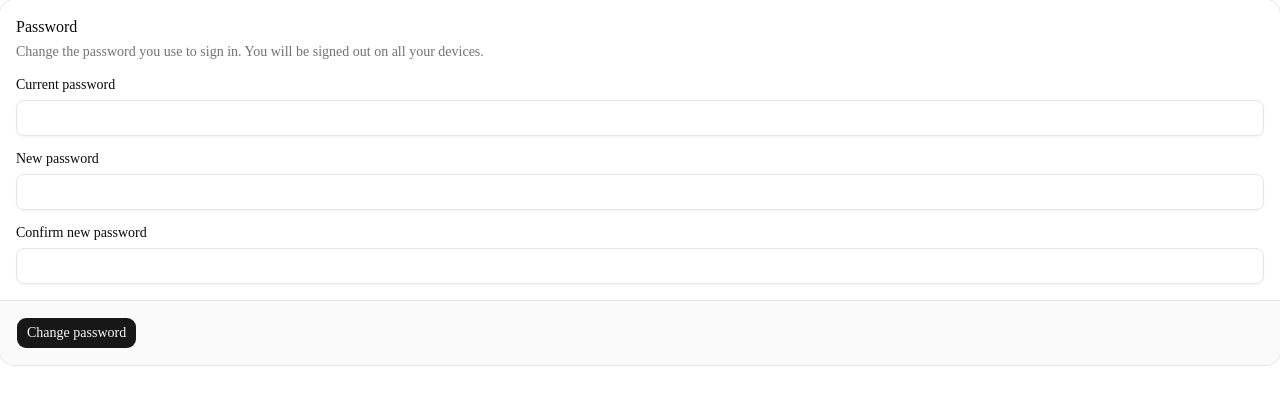
Test case: PasswordCard › an empty current password never reaches the endpoint
In the password field labelled "New password": (640, 192) [16, 174, 1264, 210], type "n3w-s3cret-password"
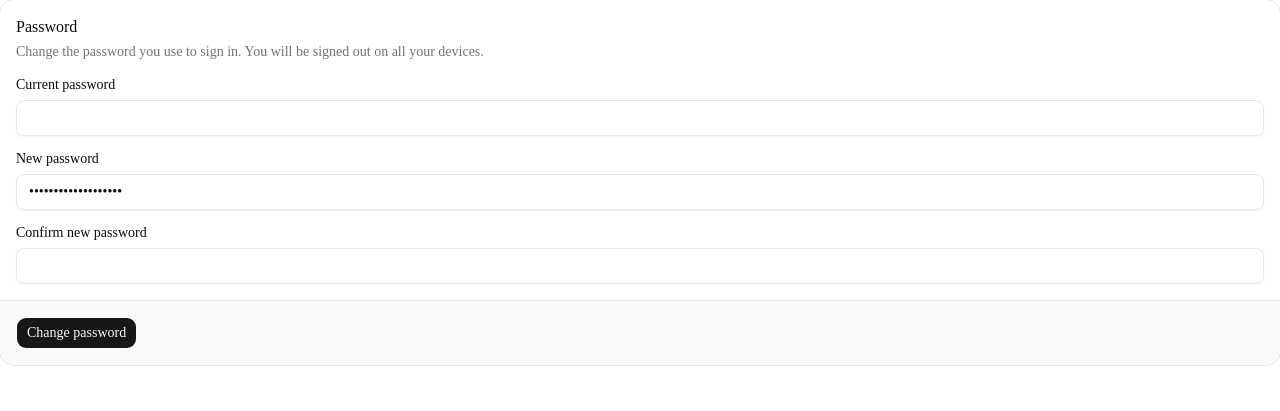
In the password field labelled "Confirm new password": (640, 266) [16, 248, 1264, 284], type "n3w-s3cret-password"
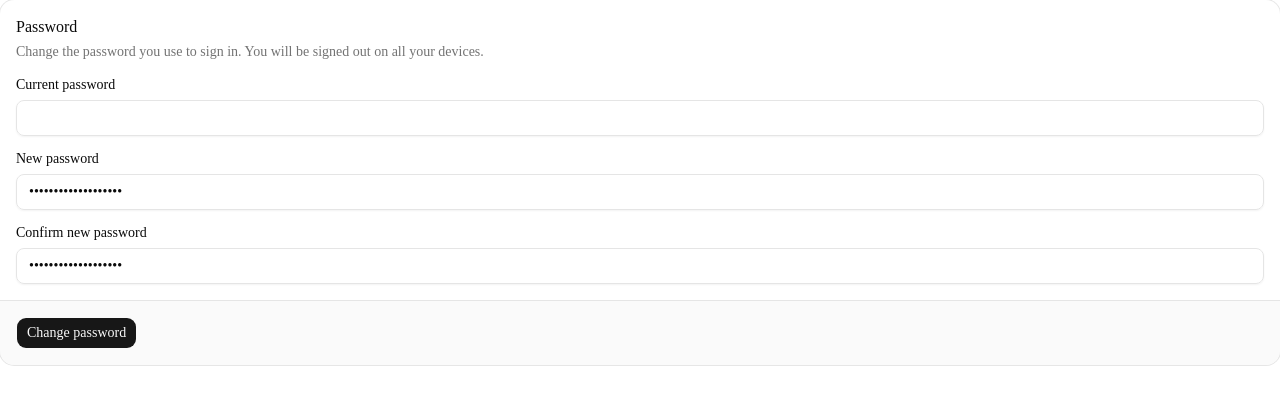
Click the button "Change password": (77, 333) [16, 317, 137, 349]
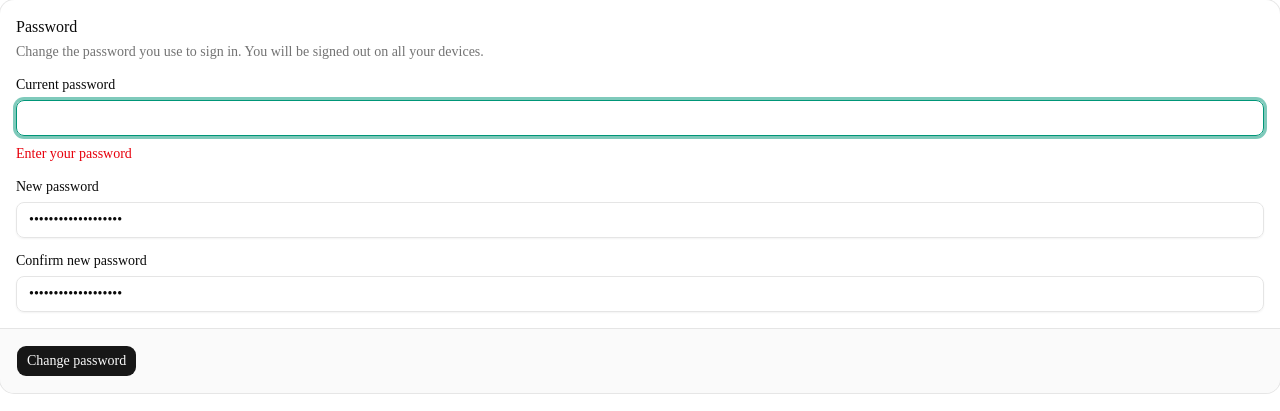
Expected: the text "Enter your password" is shown, [16, 146, 132, 161]
